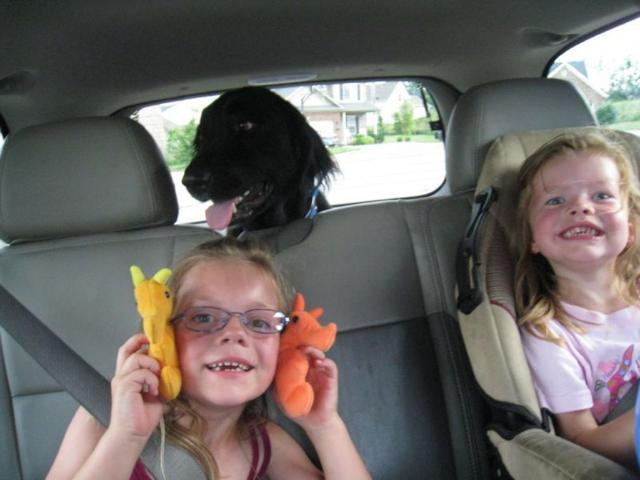SafeDriving: (182, 303, 226, 334), (240, 308, 279, 335), (584, 182, 622, 208), (536, 187, 572, 213)
Seatbelt: (1, 283, 206, 479)
